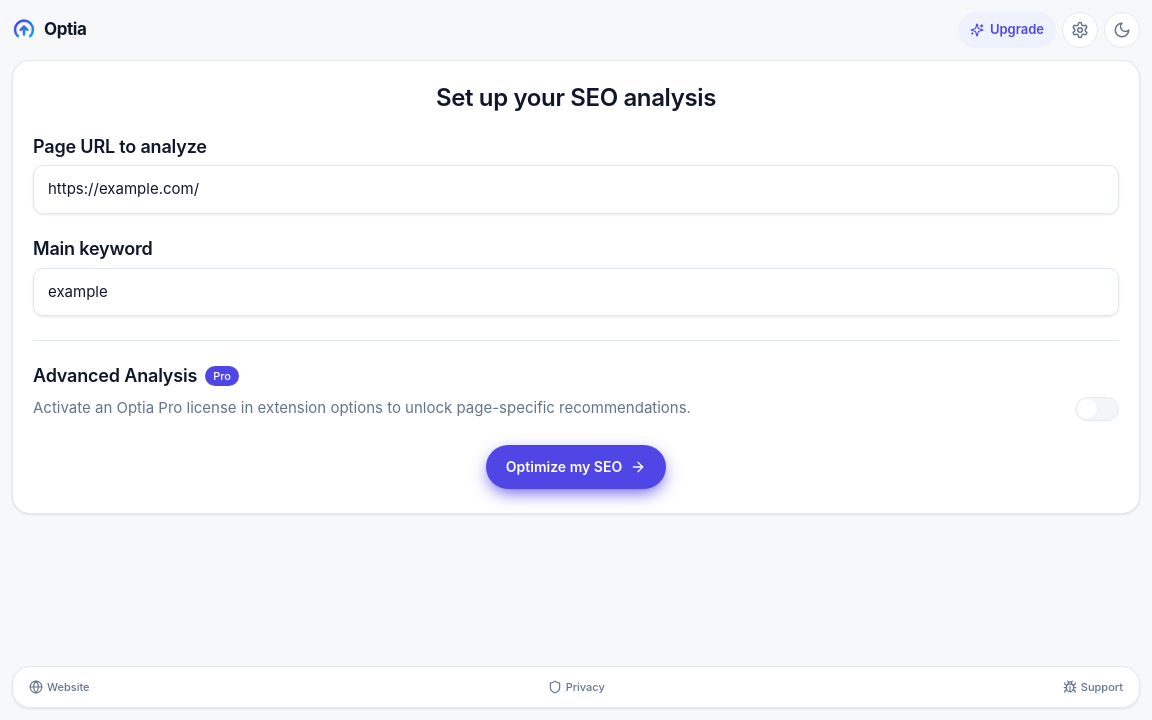
App analysis usage counting › still shows the results when the local count cannot be saved
The width and height of the screenshot is (1152, 720).
Click the button "Optimize my SEO" at (576, 467), box [486,445,666,489]
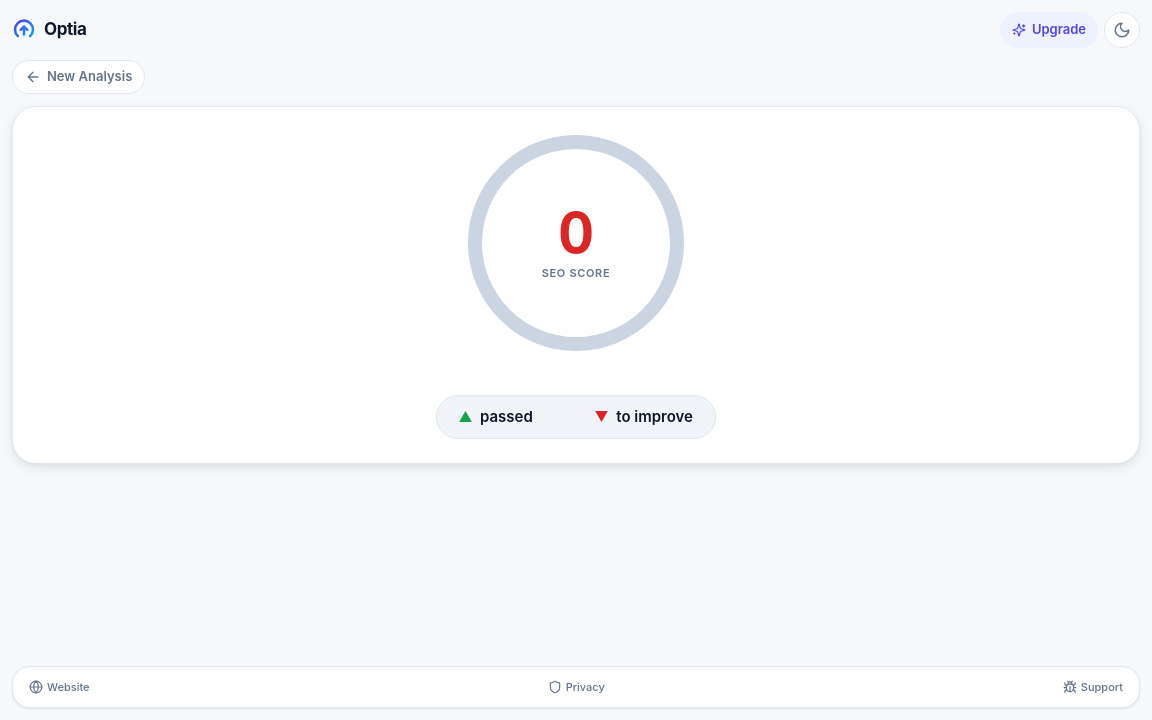
Expected: the button "New Analysis" is shown, [12,60,145,94]
